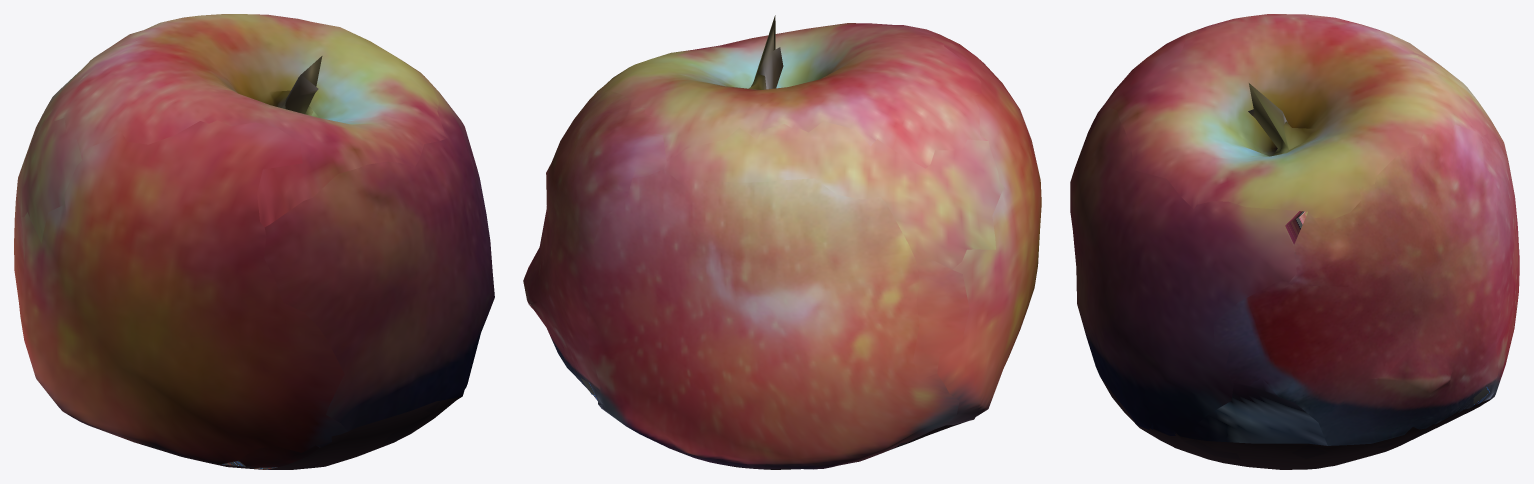
Rendered from Apple.glb.
3 views of the same model, side by side, from view 1: azimuth 30°, elevation 25°; view 2: azimuth 150°, elevation 25°; view 3: azimuth 270°, elevation 25° (orthographic). The views are drawn at different scales.
Visible parts, largest first — view 1: mesh; view 2: mesh; view 3: mesh.
Boxes of the visible parts, x1,y1,x2,y2 form: mesh: (14, 14, 494, 469); mesh: (523, 15, 1041, 469); mesh: (1070, 14, 1519, 469).
Bounding box in the file's own units: 0.0708 × 0.0638 × 0.0679.
1 material, 1 textured.
